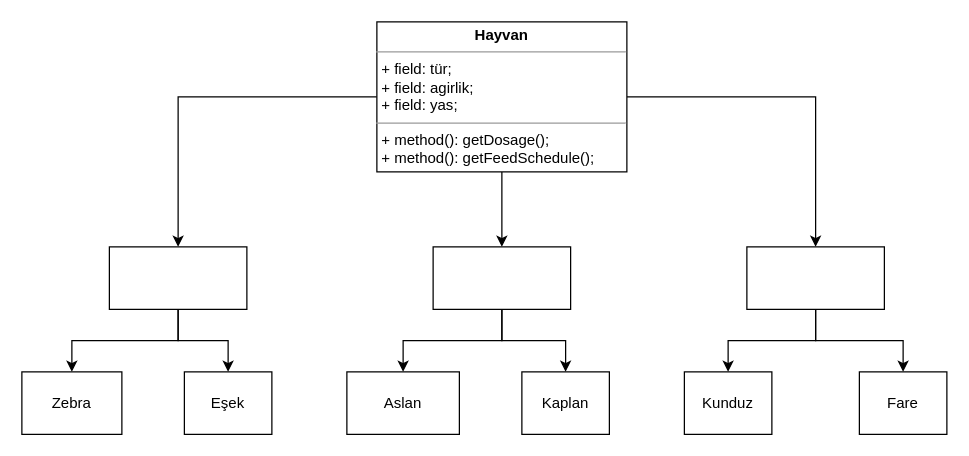
Image size: 969x456. Some labels were removed from this diagram. Here are the shapes that lost their labels. From the top down, the box of each, then its label:
(108, 246, 247, 309): Atlar
(432, 246, 571, 309): Kedigiller
(746, 246, 884, 309): Kemirgenler
